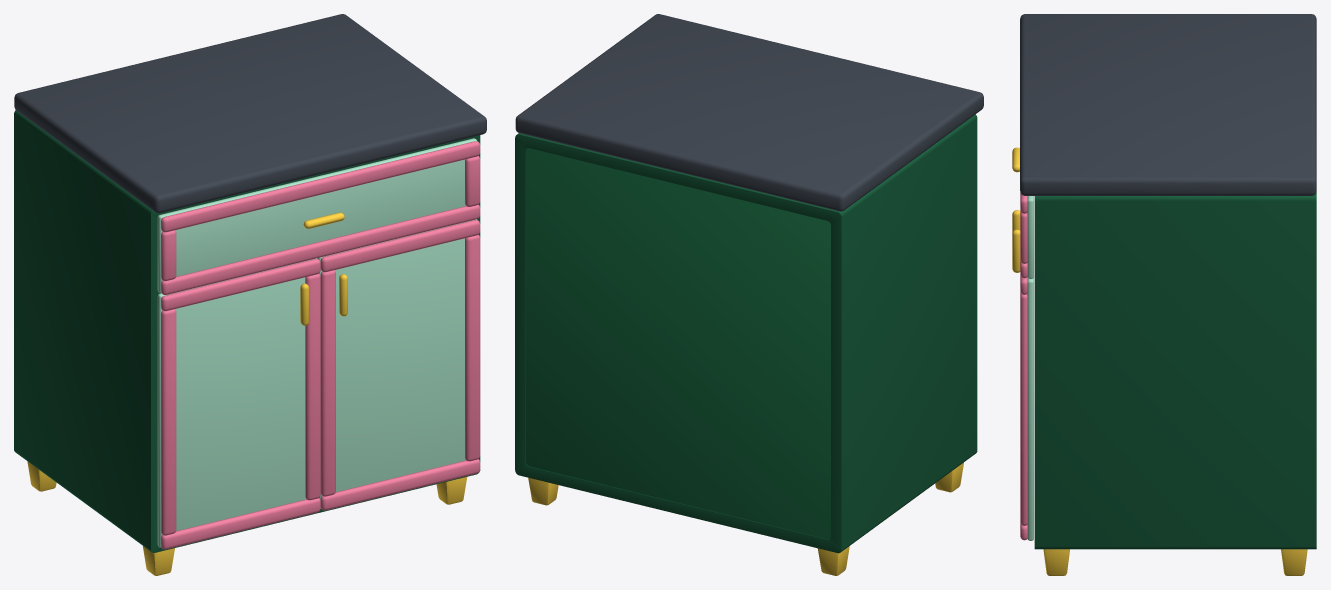
Rendered from armario_cozinha_base_2portas_grafite_floresta.glb.
The picture shows the model from 3 angles, left to right: view 1: azimuth 30°, elevation 25°; view 2: azimuth 150°, elevation 25°; view 3: azimuth 270°, elevation 25°; orthographic projection. The views are drawn at different scales.
Parts seen in each view (by area): view 1: armario_cozinha_base_2portas_grafite_floresta, porta_1, porta_2, gaveta_1; view 2: armario_cozinha_base_2portas_grafite_floresta; view 3: armario_cozinha_base_2portas_grafite_floresta, porta_2, gaveta_1.
Part boxes in pixels (x1,y1,x2,y2): armario_cozinha_base_2portas_grafite_floresta: (14, 14, 486, 575); porta_1: (157, 258, 320, 549); porta_2: (317, 219, 480, 510); gaveta_1: (157, 138, 480, 294); armario_cozinha_base_2portas_grafite_floresta: (515, 14, 983, 575); armario_cozinha_base_2portas_grafite_floresta: (1020, 14, 1316, 575); porta_2: (1012, 229, 1033, 540); gaveta_1: (1012, 147, 1033, 278).
Bounding box in the file's own units: 0.798 × 0.9 × 0.6147.
1 material, 1 textured.
